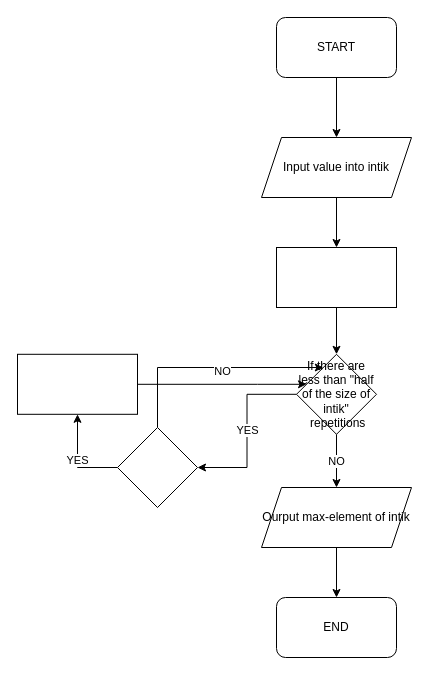
Image size: 429x675. Some labels were removed from this diagram. The shapes that lost their labels are listed below. From the top down, each one's box as (x1, y1, x2, y2) in pixels, then its label:
(276, 246, 396, 308): max = 0
(16, 353, 138, 414): max = i
(116, 426, 198, 508): if i-element of intik is bigger than max-element
